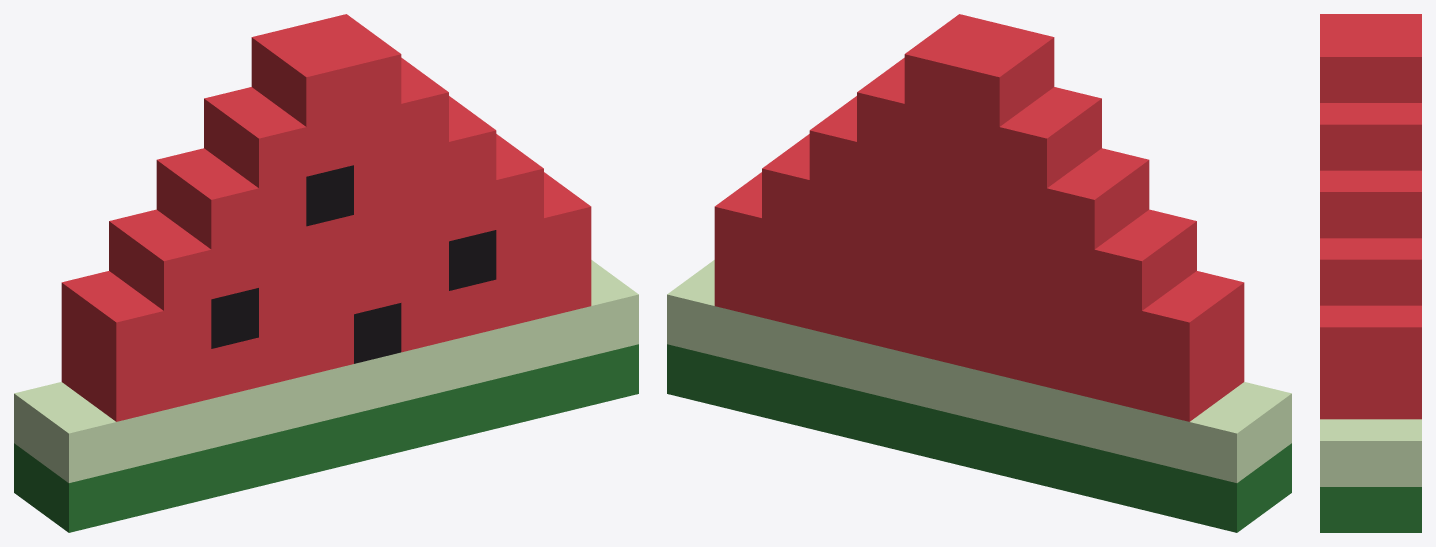
The model's file is watermelon.glb.
The picture shows the model from 3 angles, left to right: view 1: azimuth 30°, elevation 25°; view 2: azimuth 150°, elevation 25°; view 3: azimuth 270°, elevation 25°; orthographic projection. The views are drawn at different scales.
Visible parts, largest first — view 1: watermelon; view 2: watermelon; view 3: watermelon.
Boxes of the visible parts, x1,y1,x2,y2 form: watermelon: (14, 14, 638, 532); watermelon: (667, 14, 1291, 532); watermelon: (1320, 14, 1421, 532).
Bounding box in the file's own units: 0.6 × 0.4 × 0.1.
Materials: 1 (1 with a texture image).
